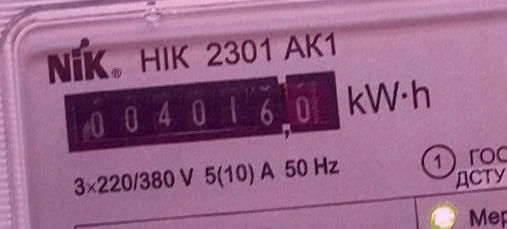0: (187, 93, 211, 130), (86, 105, 109, 140), (291, 91, 314, 124), (121, 100, 142, 135)
1: (225, 90, 242, 125)
4: (154, 95, 175, 130)
6: (255, 92, 277, 126)
screen: (56, 62, 350, 160)
